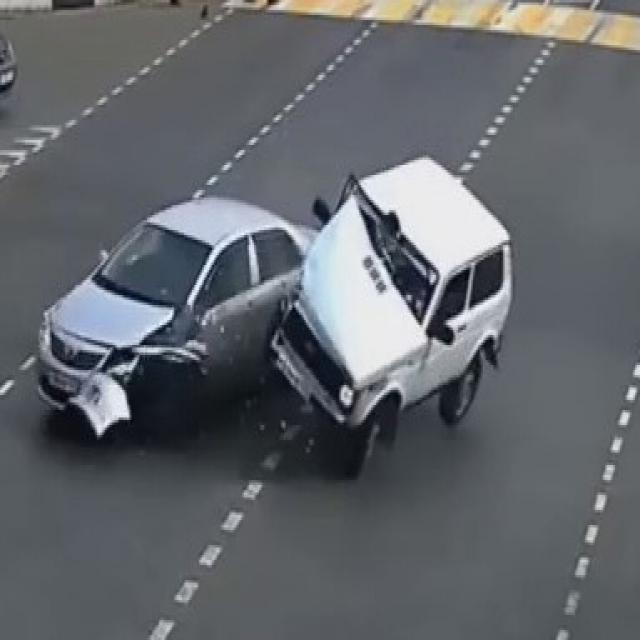accident: (24, 139, 543, 513)
